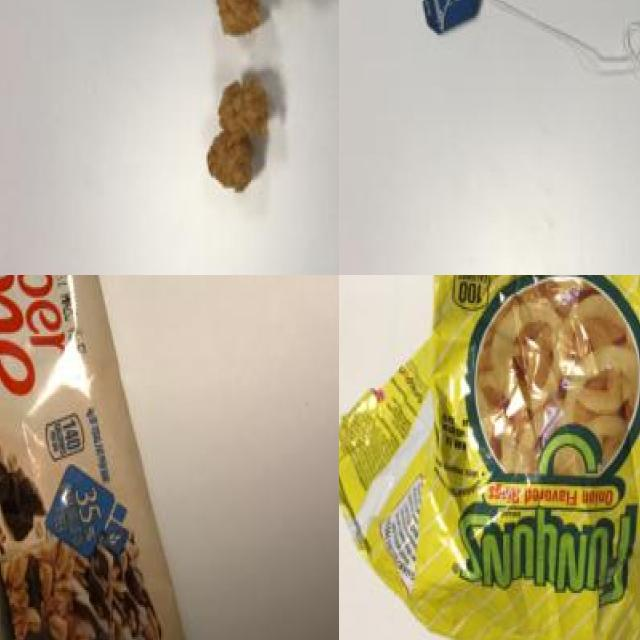compost: (417, 0, 640, 227), (202, 0, 339, 244)
trash: (362, 275, 640, 640), (0, 275, 234, 640)
